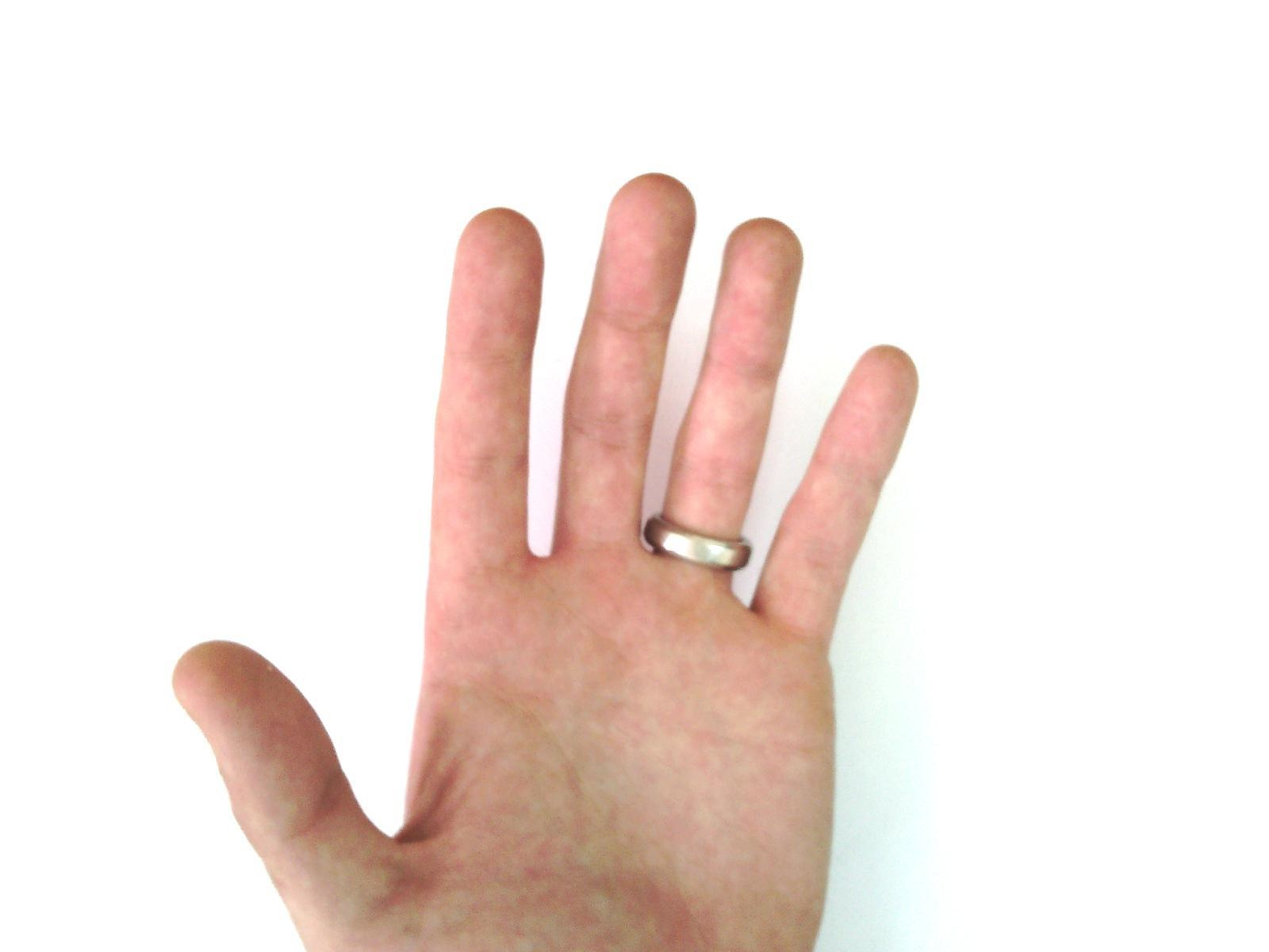open_palm: (171, 171, 922, 952)
